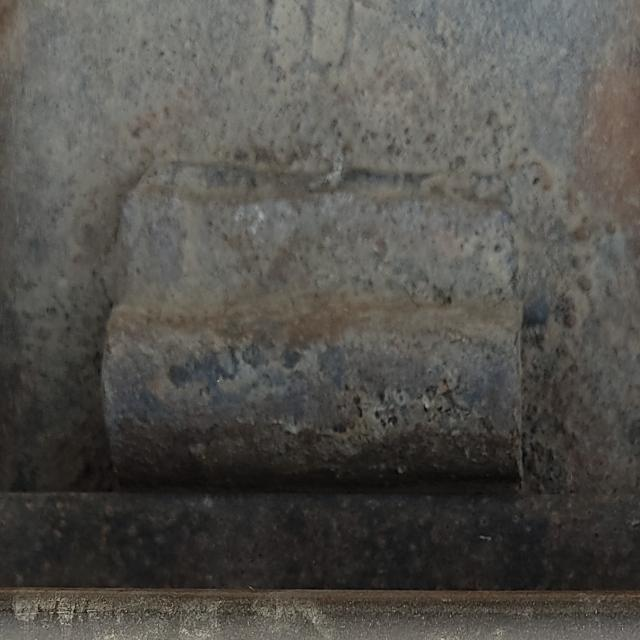track_bolt_missing: (92, 286, 532, 496)
